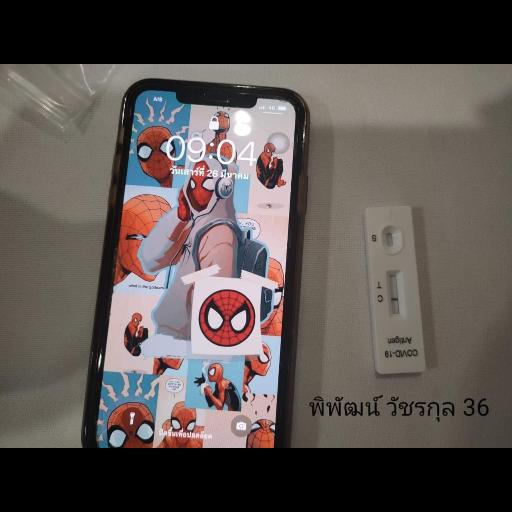Neg: (364, 206, 426, 374)
